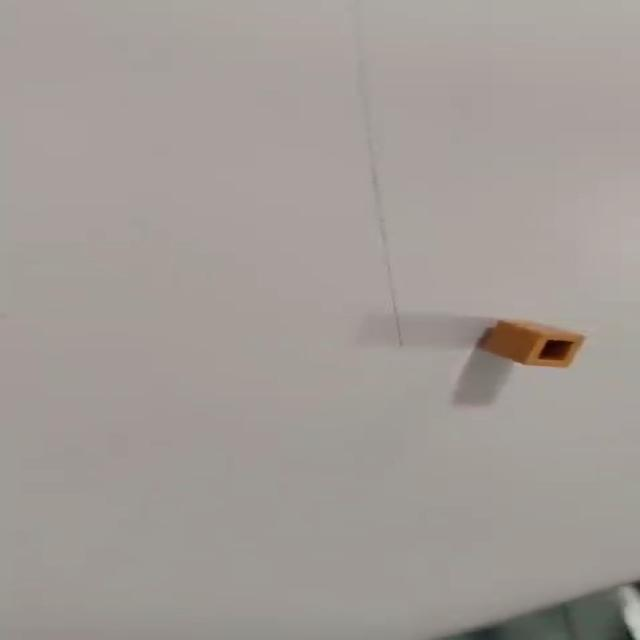C1x1x1: (479, 317, 586, 368)
